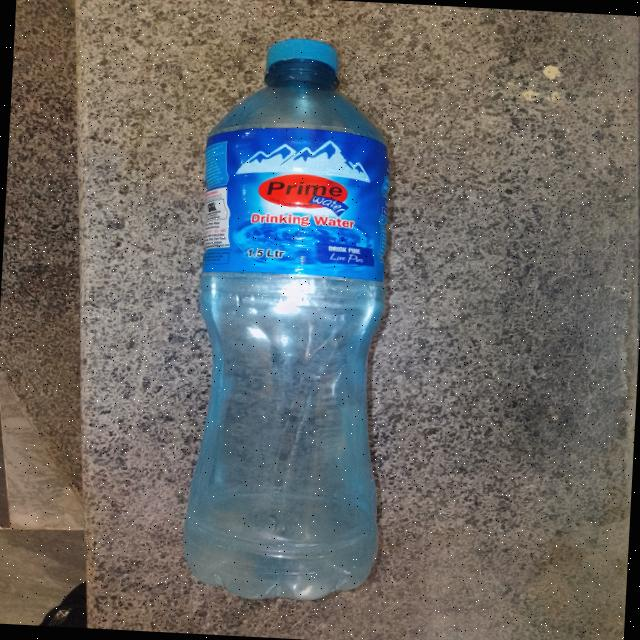bottle: (170, 22, 436, 618)
cap: (257, 30, 348, 78)
label: (192, 115, 404, 301)
